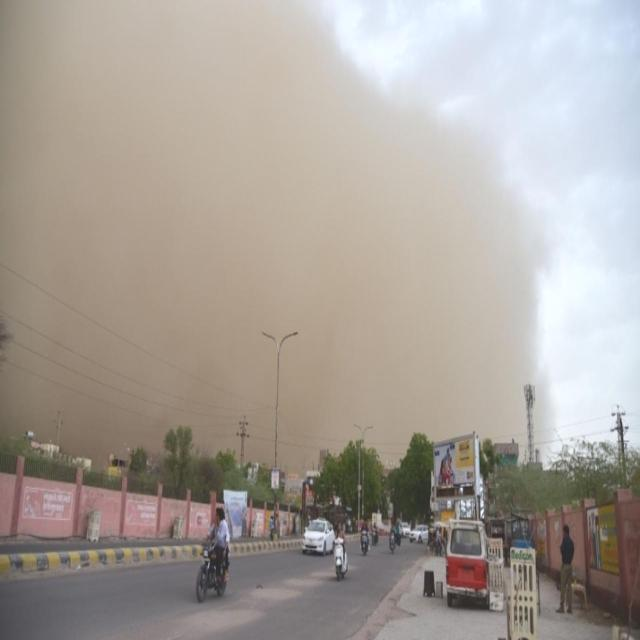Car: (301, 517, 334, 559), (410, 523, 429, 542), (399, 521, 411, 537)
Cycle: (196, 505, 232, 606), (335, 520, 349, 578), (360, 522, 370, 555), (387, 524, 398, 553), (372, 520, 379, 544)
Truck: (426, 434, 486, 546)
Van: (444, 517, 489, 611)
